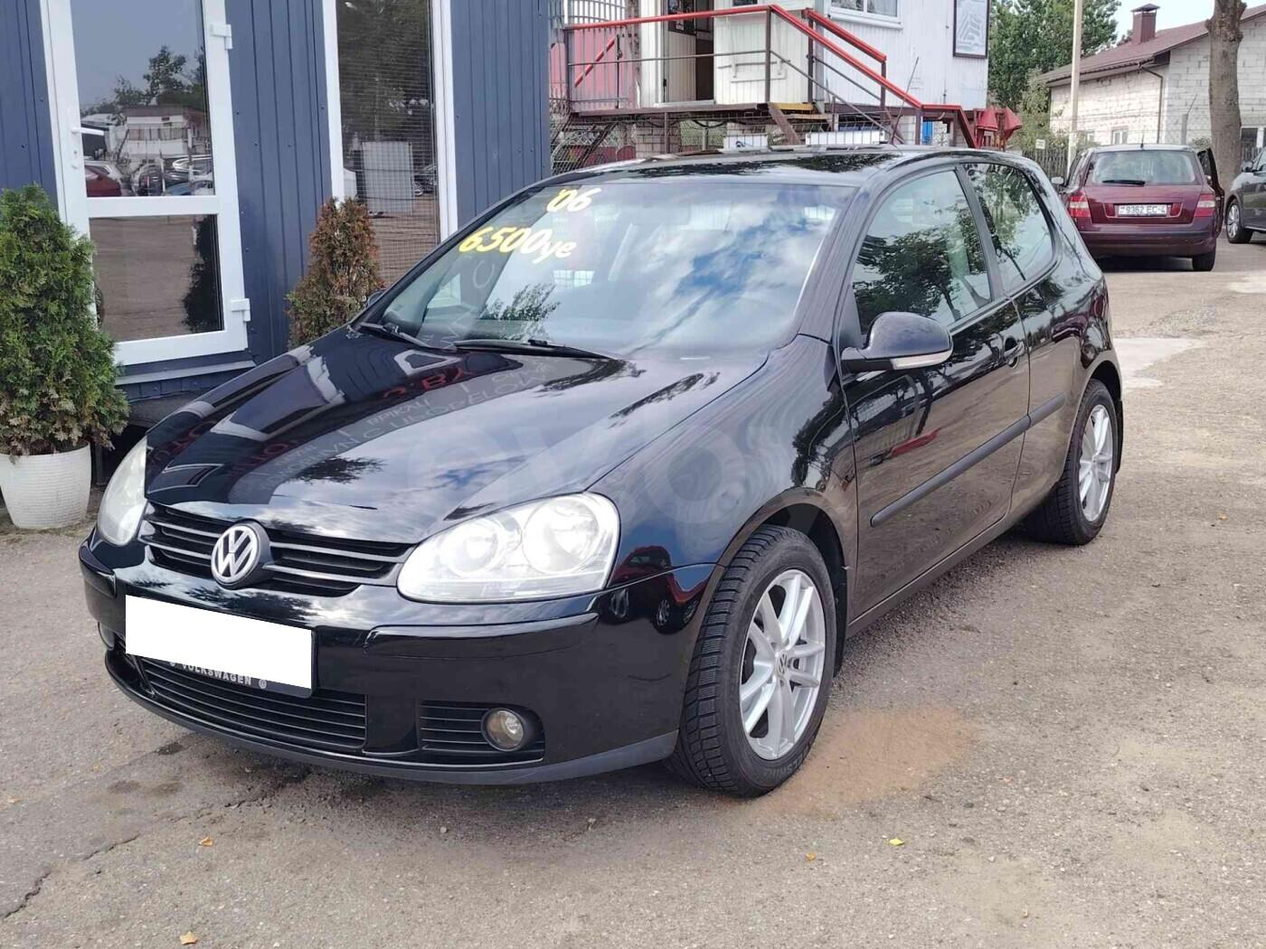Golf_2003-2009: (76, 149, 1129, 805)
